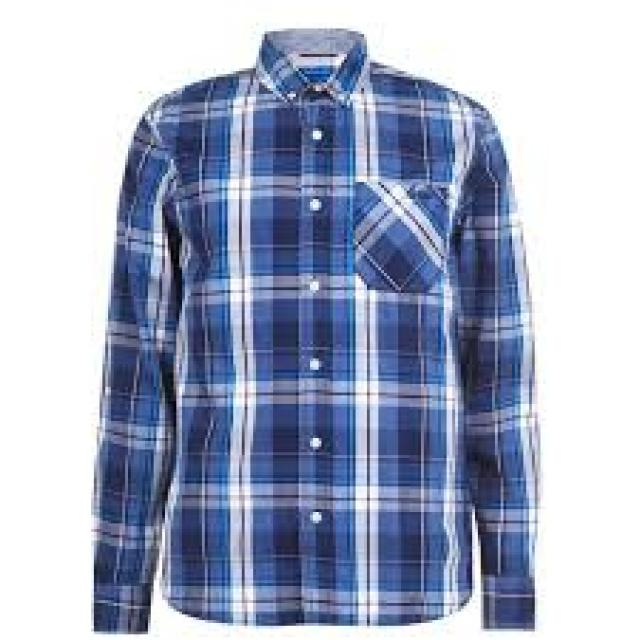plaid: (78, 23, 542, 634)
